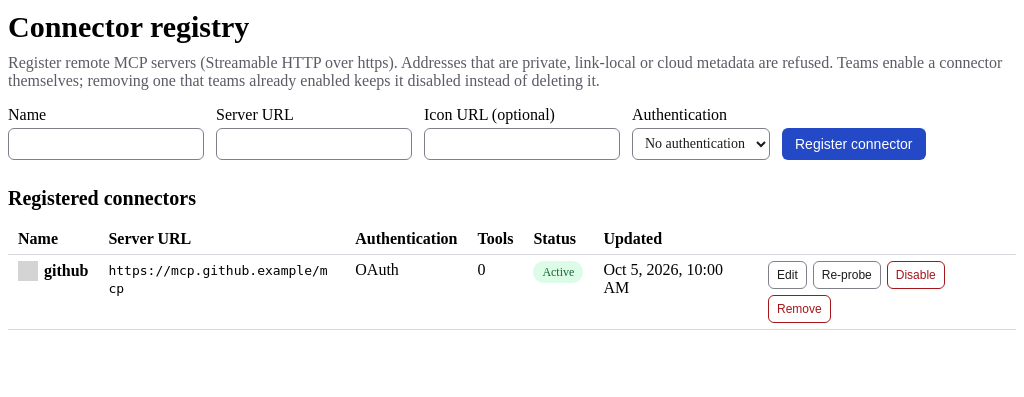
Test: Connector registry (KOBE-100) › disables a connector
The width and height of the screenshot is (1024, 397).
Click the button named "Disable github" at (916, 274), box 887,260 -> 945,288
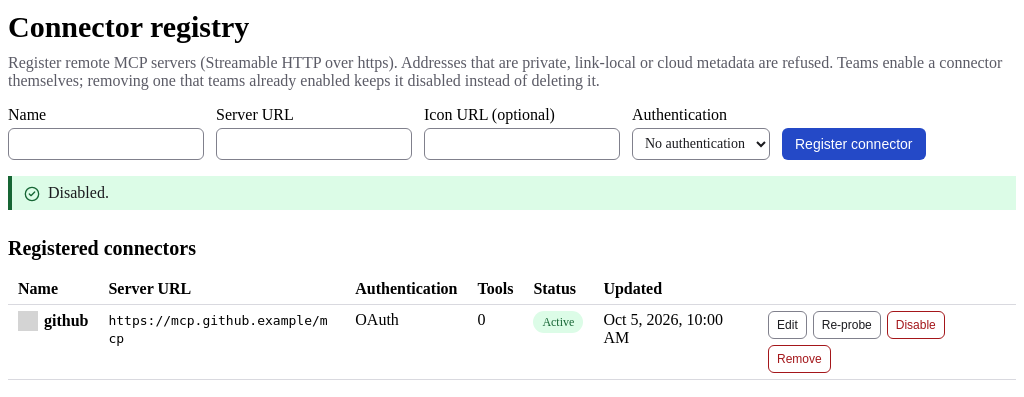
Expected: the text "Disabled." is shown, 48,184 -> 109,200
